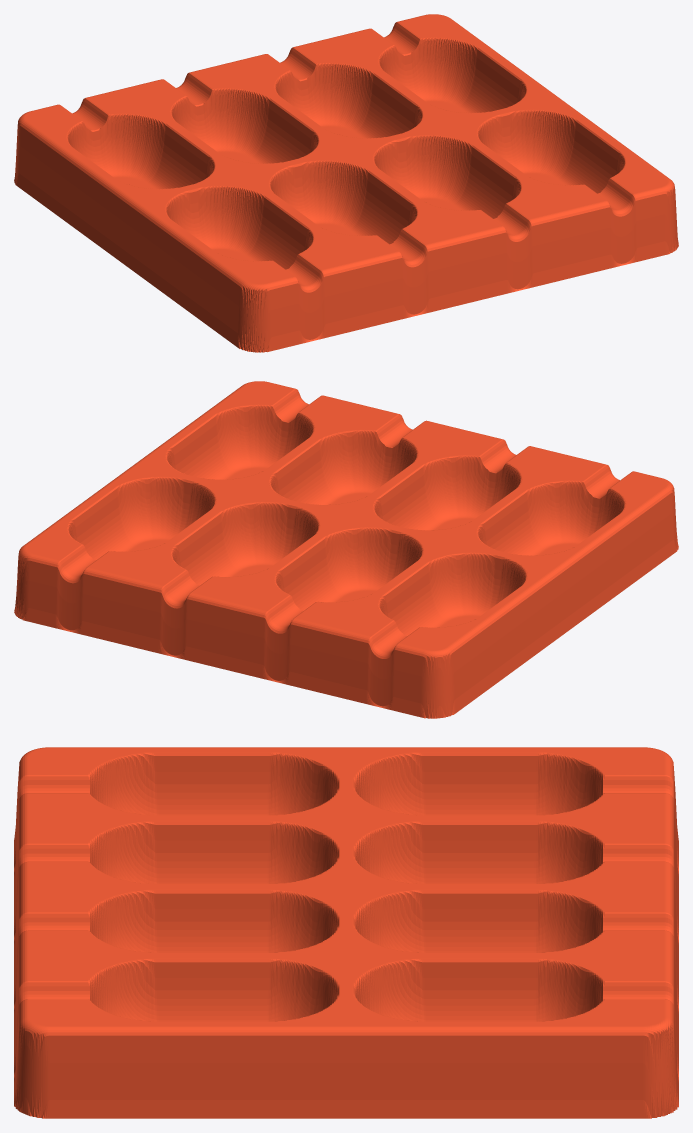
File: mold.glb
The picture shows the model from 3 angles, top to bottom: view 1: azimuth 30°, elevation 25°; view 2: azimuth 150°, elevation 25°; view 3: azimuth 270°, elevation 25°; orthographic projection. The views are drawn at different scales.
Visible parts, largest first — view 1: geometry_0; view 2: geometry_0; view 3: geometry_0.
Boxes of the visible parts, x1,y1,x2,y2 form: geometry_0: [14, 14, 678, 352]; geometry_0: [14, 381, 678, 718]; geometry_0: [14, 747, 678, 1118].
Size of the model in its own units: 0.1765 by 0.0245 by 0.1709.
